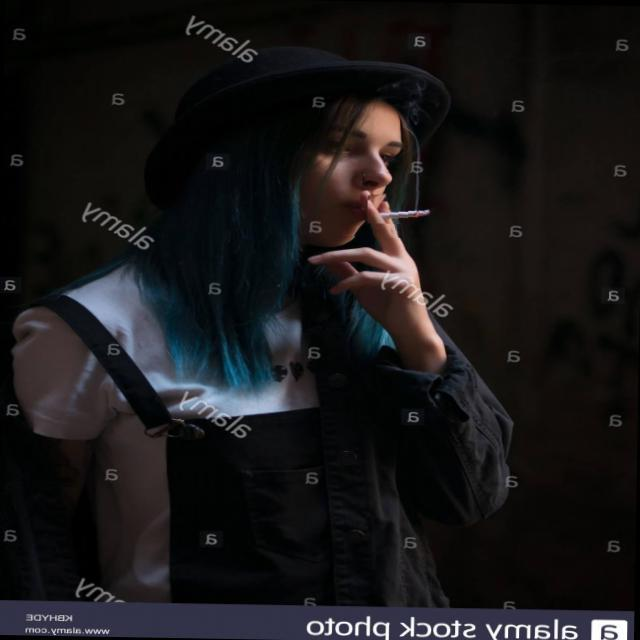cigarette: (368, 187, 443, 224)
